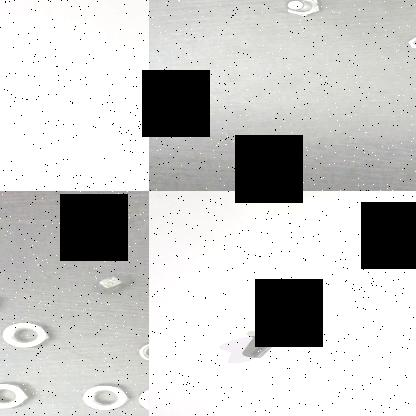Bolts: (243, 327, 289, 363), (275, 0, 329, 19), (401, 33, 416, 56)
NUTS: (0, 319, 55, 351), (77, 384, 133, 412), (91, 269, 137, 295), (0, 380, 37, 412), (135, 380, 149, 415), (133, 338, 149, 364)
